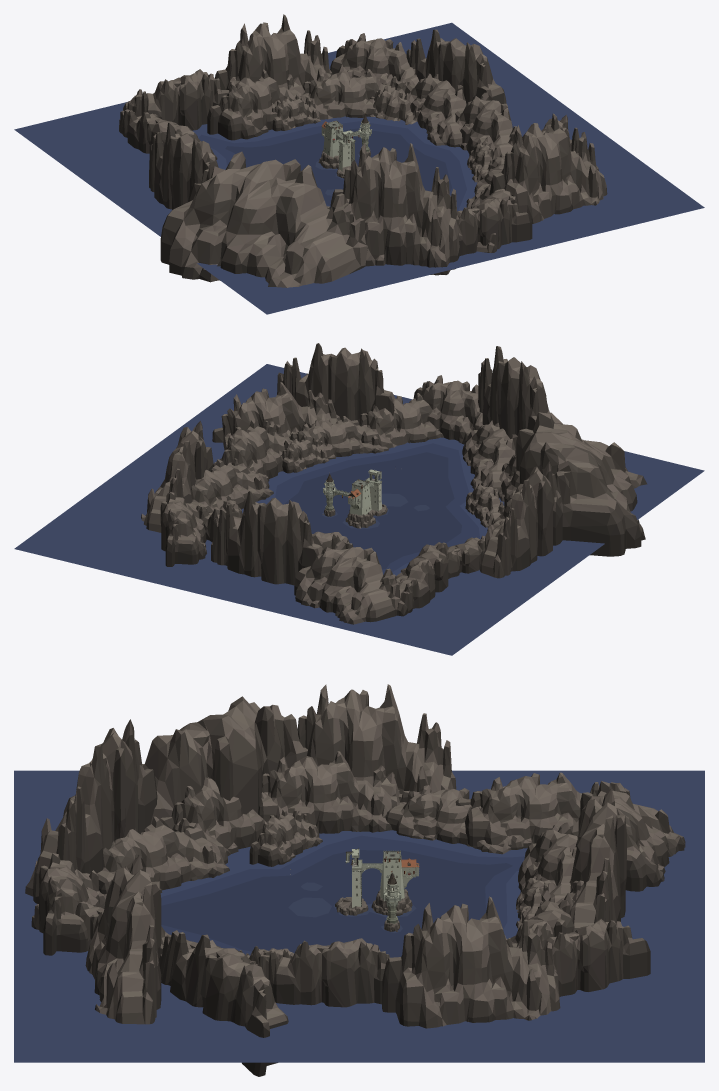
File: narrowTowers.glb
3 views of the same model, one above another, from view 1: azimuth 30°, elevation 25°; view 2: azimuth 150°, elevation 25°; view 3: azimuth 270°, elevation 25° (orthographic). The views are drawn at different scales.
Parts seen in each view (by area): view 1: water, Mball.024, Mball.027, Mball.018, Mball.006, Mball.052, Mball.015, Mball.009, Mball.011, Mball.002, Mball.025, Mball.013 (+8 smaller); view 2: water, Mball.024, Mball.006, Mball.011, Mball.018, Mball.009, Mball.027, Mball.022, Mball.015, Mball.014, Mball.025, Mball.019 (+10 smaller); view 3: water, Mball.015, Mball.024, Mball.009, Mball.027, Mball.018, Mball.022, Mball.001, Mball.019, Mball.010, Mball.006, Mball.026 (+10 smaller).
Boxes of the visible parts, x1,y1,x2,y2 form: water: (14, 22, 704, 314); Mball.024: (160, 151, 367, 287); Mball.027: (330, 143, 459, 275); Mball.018: (489, 113, 607, 223); Mball.006: (215, 14, 332, 94); Mball.052: (207, 69, 308, 140); Mball.015: (406, 29, 506, 104); Mball.009: (149, 122, 218, 209); Mball.011: (123, 69, 229, 130); Mball.002: (303, 69, 406, 119); Mball.025: (457, 198, 532, 255); Mball.013: (404, 73, 466, 147); water: (14, 364, 704, 655); Mball.024: (516, 412, 647, 556); Mball.006: (211, 491, 322, 585); Mball.011: (294, 540, 400, 624); Mball.018: (277, 343, 394, 420); Mball.009: (480, 461, 561, 578); Mball.027: (478, 346, 553, 438); Mball.022: (212, 382, 340, 450); Mball.015: (141, 421, 213, 532); Mball.014: (351, 393, 444, 448); Mball.025: (413, 375, 482, 444); Mball.019: (213, 420, 292, 481); water: (14, 770, 704, 1062); Mball.015: (382, 896, 560, 1028); Mball.024: (63, 696, 307, 823); Mball.009: (297, 684, 456, 800); Mball.027: (25, 719, 157, 903); Mball.018: (85, 855, 161, 1024); Mball.022: (159, 930, 288, 1076); Mball.001: (258, 751, 399, 833); Mball.019: (250, 938, 387, 1007); Mball.010: (455, 772, 599, 848); Mball.006: (564, 788, 626, 931); Mball.026: (97, 816, 229, 894).
Size of what is drawn, in the model's own units: 548 by 158 by 528.
